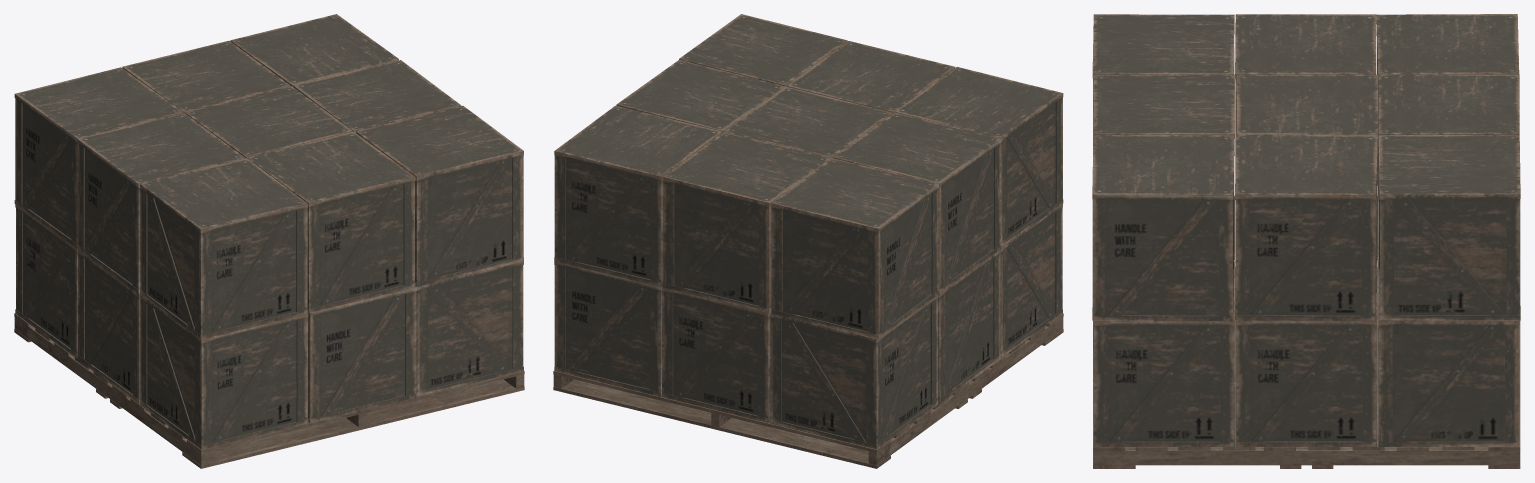
The model's file is SM_Crate_Stack_02.fbx.
3 renders of one model, left to right at view 1: azimuth 30°, elevation 25°; view 2: azimuth 150°, elevation 25°; view 3: azimuth 270°, elevation 25°, orthographic. The views are drawn at different scales.
Visible parts, largest first — view 1: SM_Crate_Stack_02_LOD0; view 2: SM_Crate_Stack_02_LOD0; view 3: SM_Crate_Stack_02_LOD0.
Part boxes in pixels (bbox=[...]): SM_Crate_Stack_02_LOD0: bbox=[14, 14, 524, 468]; SM_Crate_Stack_02_LOD0: bbox=[553, 14, 1063, 468]; SM_Crate_Stack_02_LOD0: bbox=[1092, 14, 1520, 468].
Size of the model in its own units: 213 by 213 by 150.
1 material, 1 textured.
